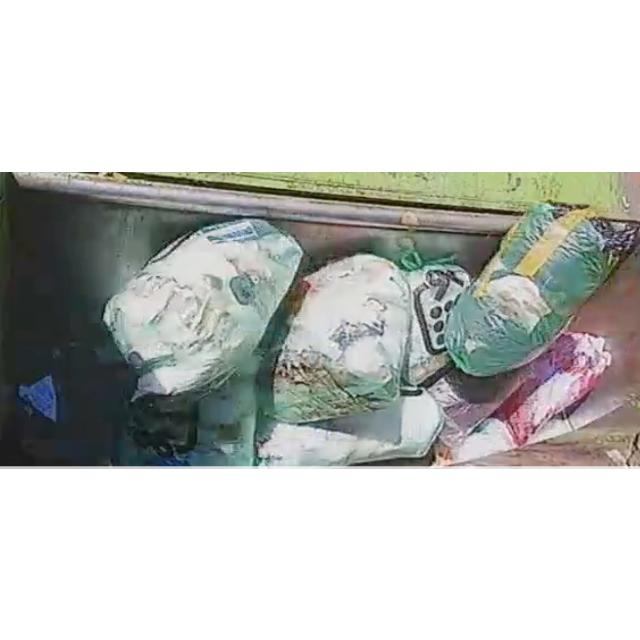general_trashbag: (104, 218, 302, 399), (445, 204, 638, 376), (274, 254, 410, 422), (259, 390, 442, 465), (271, 218, 500, 272), (402, 260, 470, 385)
